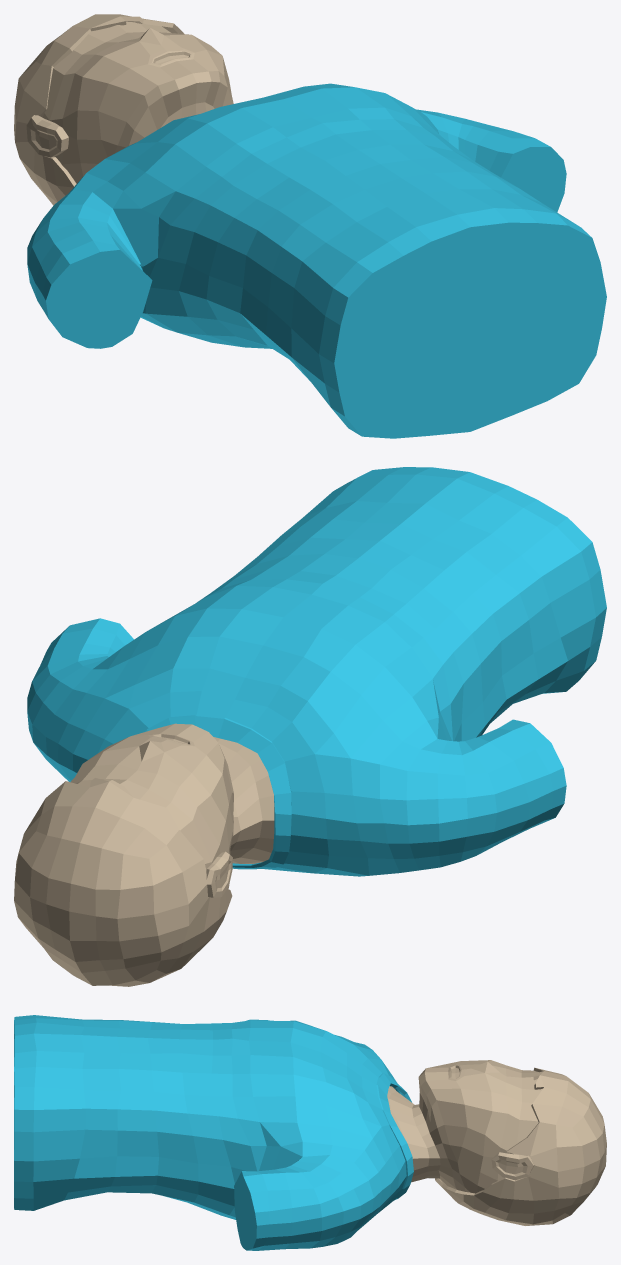
The model's file is 0709_Dummy.fbx.
3 renders of one model, top to bottom at view 1: azimuth 30°, elevation 25°; view 2: azimuth 150°, elevation 25°; view 3: azimuth 270°, elevation 25°, orthographic. The views are drawn at different scales.
Parts seen in each view (by area): view 1: Tshirt.001, Body.001, Hair.001, ear.001; view 2: Tshirt.001, Hair.001, Body.001, ear.001; view 3: Tshirt.001, Body.001, Hair.001, ear.001.
Part boxes in pixels (x1=…): Tshirt.001: x1=27, y1=83, x2=606, y2=438; Body.001: x1=42, y1=21, x2=233, y2=183; Hair.001: x1=14, y1=14, x2=184, y2=205; ear.001: x1=26, y1=115, x2=68, y2=157; Tshirt.001: x1=27, y1=467, x2=606, y2=876; Hair.001: x1=14, y1=778, x2=232, y2=986; Body.001: x1=70, y1=723, x2=274, y2=889; ear.001: x1=206, y1=851, x2=232, y2=897; Tshirt.001: x1=14, y1=1015, x2=413, y2=1250; Body.001: x1=387, y1=1060, x2=542, y2=1193; Hair.001: x1=435, y1=1067, x2=606, y2=1225; ear.001: x1=491, y1=1152, x2=533, y2=1180.
Size of the model in its own units: 156 by 72.16 by 208.
